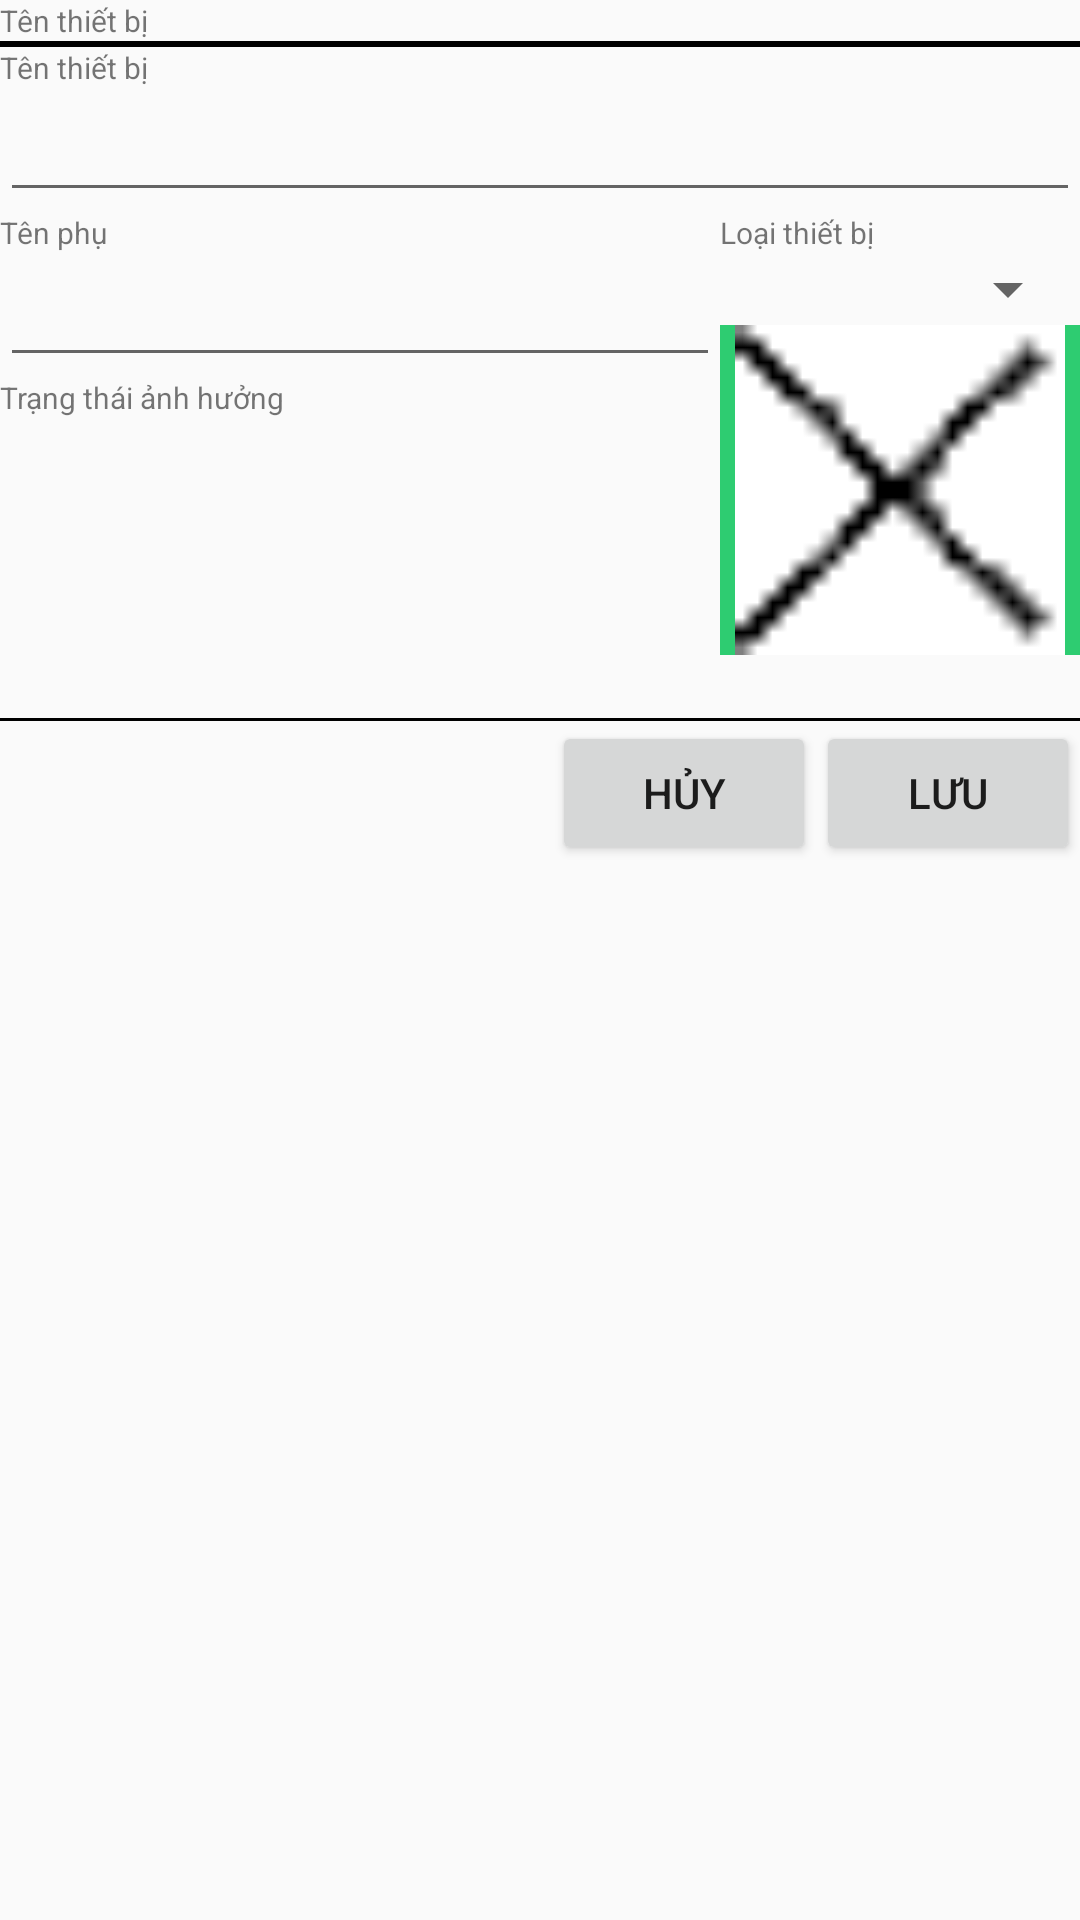

Where icons sit on this 1080 x 1920 app screen, as {"x1": x1, "y1": y1, "x2": x2, "y2": y2}:
close: {"x1": 720, "y1": 325, "x2": 1080, "y2": 655}
